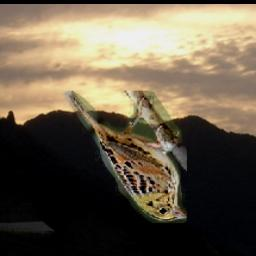Sparrow: (61, 92, 187, 224)
